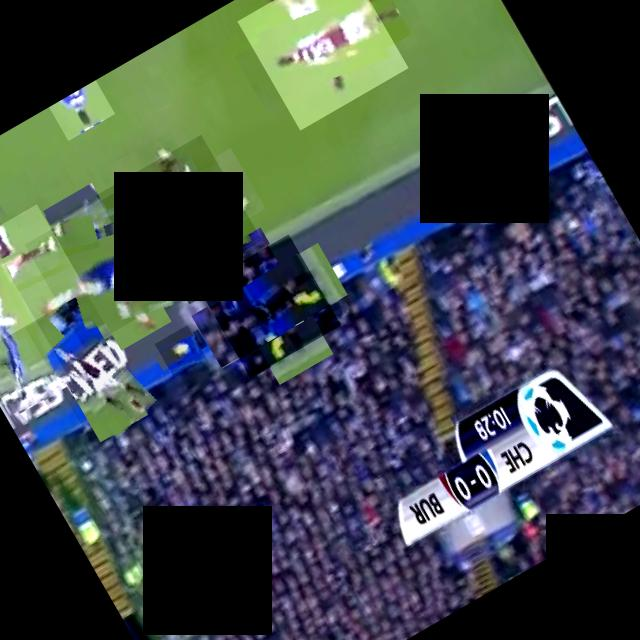ball: (155, 325, 206, 376)
soccer-player: (96, 134, 262, 300), (25, 184, 188, 348), (237, 0, 408, 130), (198, 235, 341, 378), (26, 293, 156, 448), (0, 203, 87, 340), (0, 262, 72, 417), (50, 80, 116, 141)
